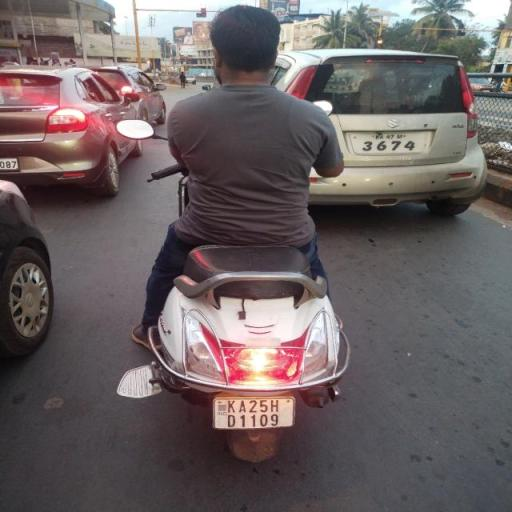bike: (105, 0, 357, 466)
numberplate: (215, 396, 294, 428)
withouthelmet: (210, 8, 280, 78)
